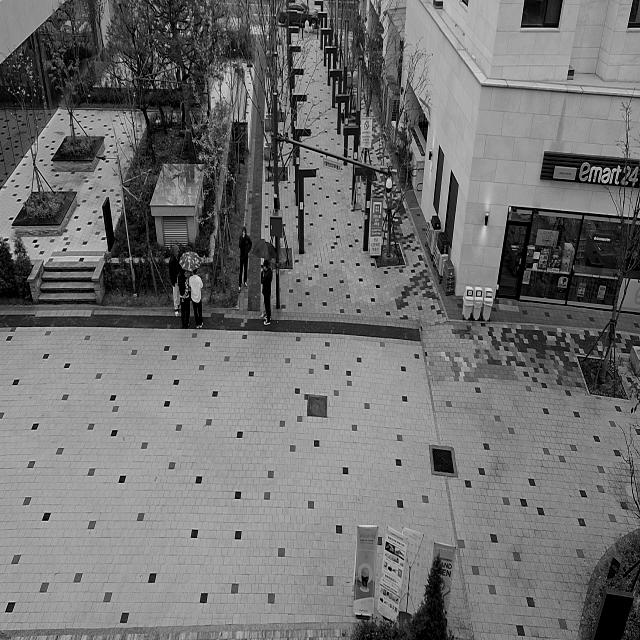Car: (273, 2, 327, 29)
